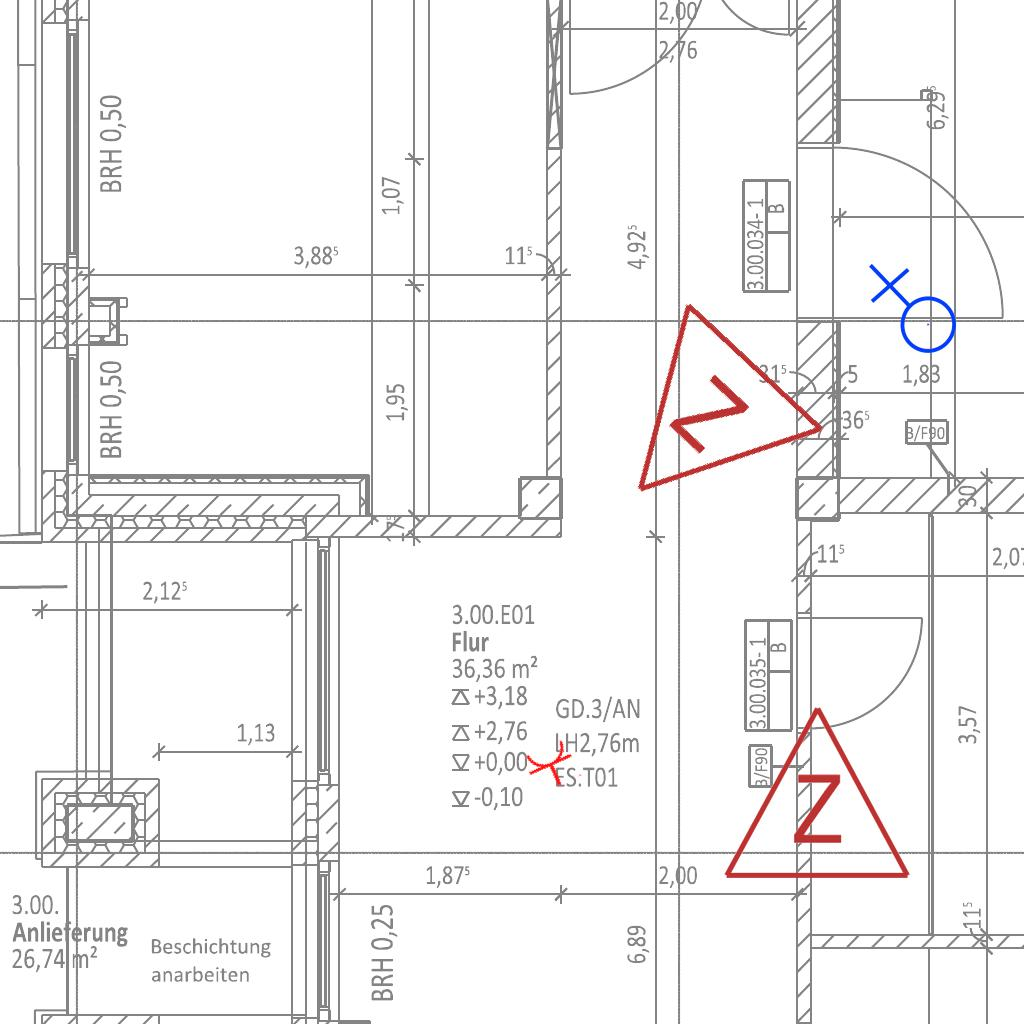Elektroanschluss_allgemein_230V_Geraeteanschlussdose_230V: (864, 263, 958, 362)
Schukosteckdose_einfach: (520, 736, 585, 796)
Zimmersignalleuchte: (560, 289, 840, 569), (717, 693, 913, 893)
